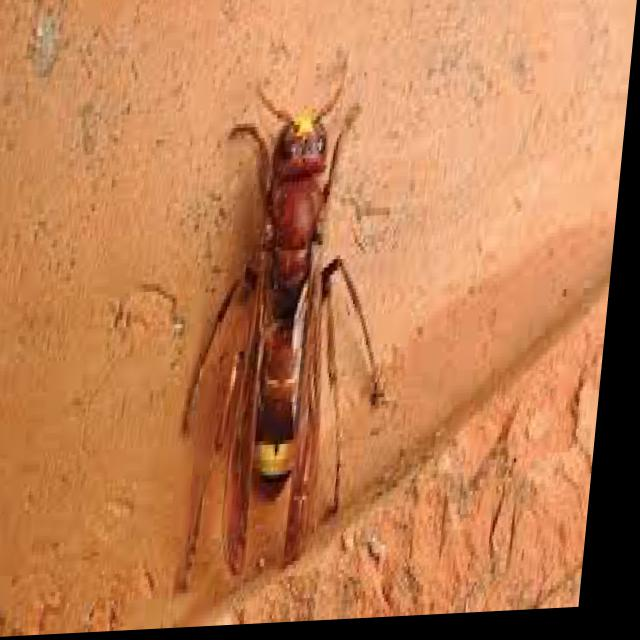Vespa Orientalis: (151, 44, 424, 623)
